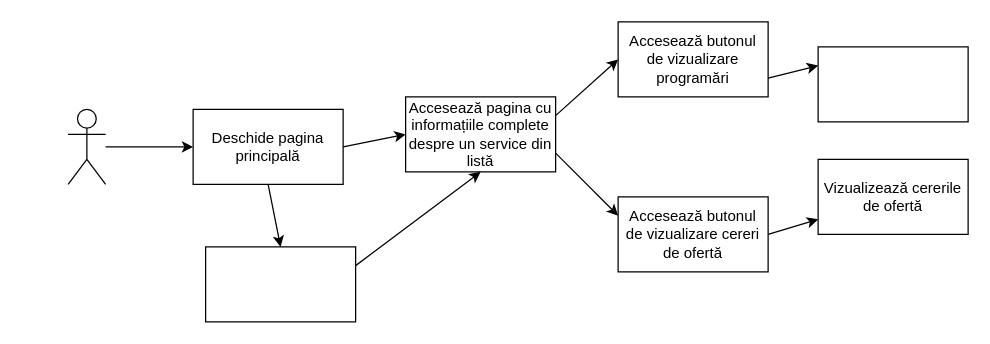
Some shapes in this 990 by 344 pixel diagram are drawn without their labels. The shapes that lost their labels are listed below. From the top down, each one's box as (x1, y1, x2, y2) in pixels, then its label:
(817, 46, 968, 122): Vizualizează programări
(67, 108, 106, 184): Utilizator (persoană conectată)
(204, 246, 356, 322): Deschide pagina cu service-urile utilizatorului conectat
